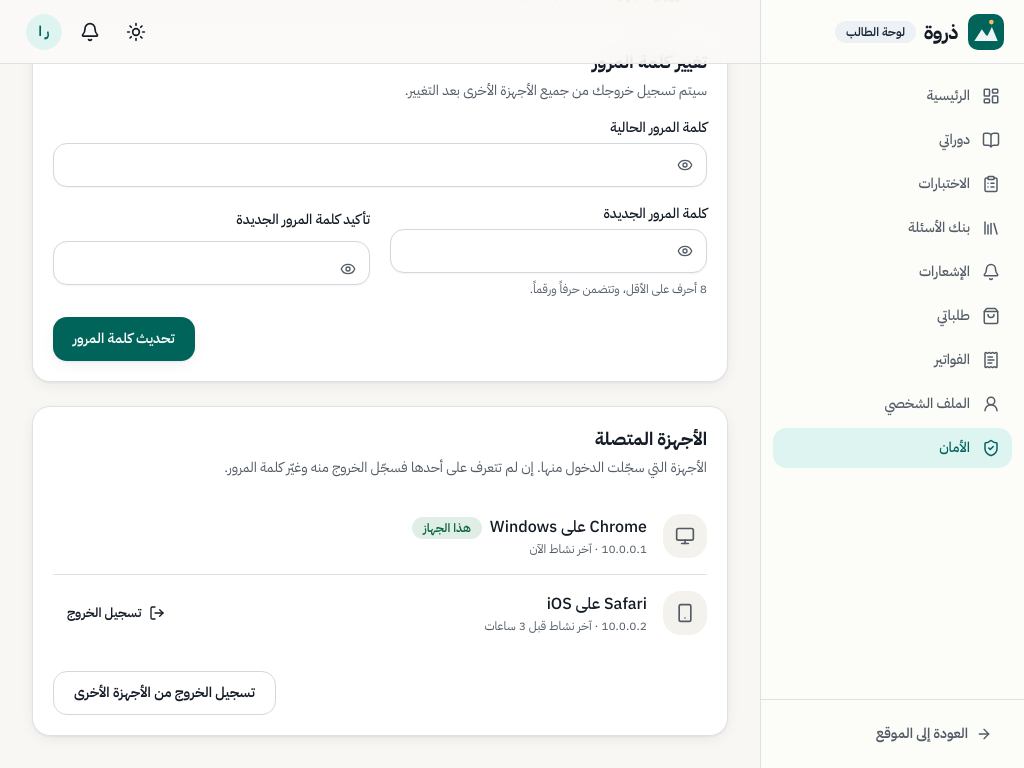
security page › confirms the password before signing out other devices
(page scrolled)
Click the button "تسجيل الخروج من الأجهزة الأخرى": click(164, 693) [53,671,276,715]
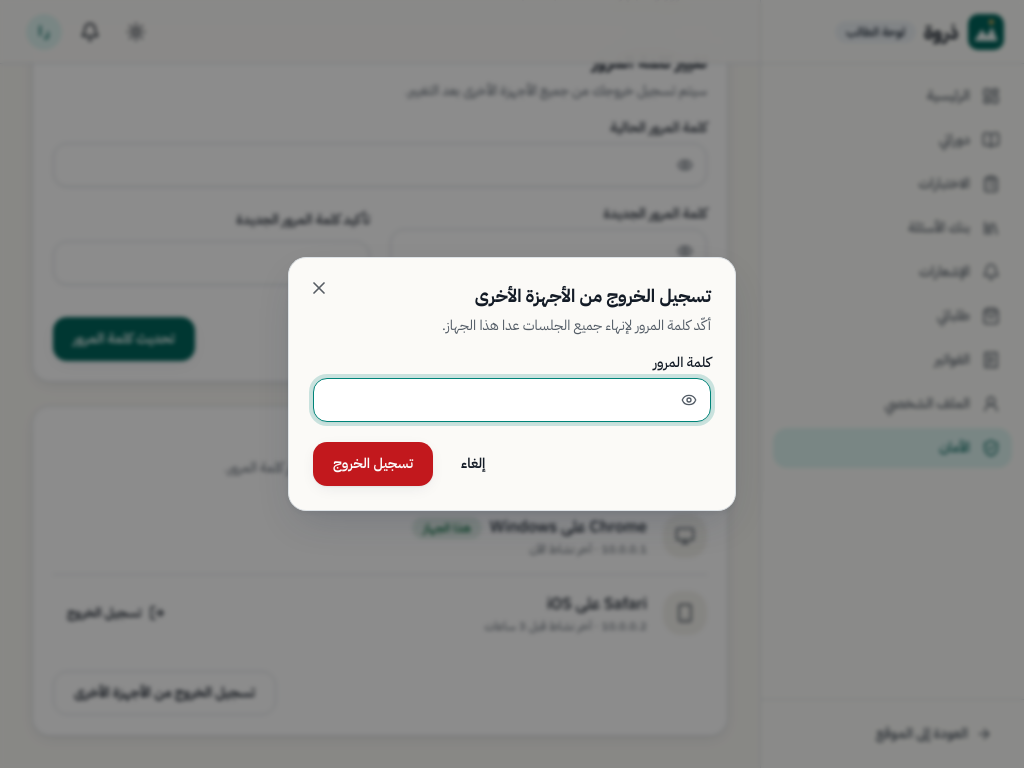
In the password field labelled "كلمة المرور": (512, 400) [313,378,711,422], type "Secret123"
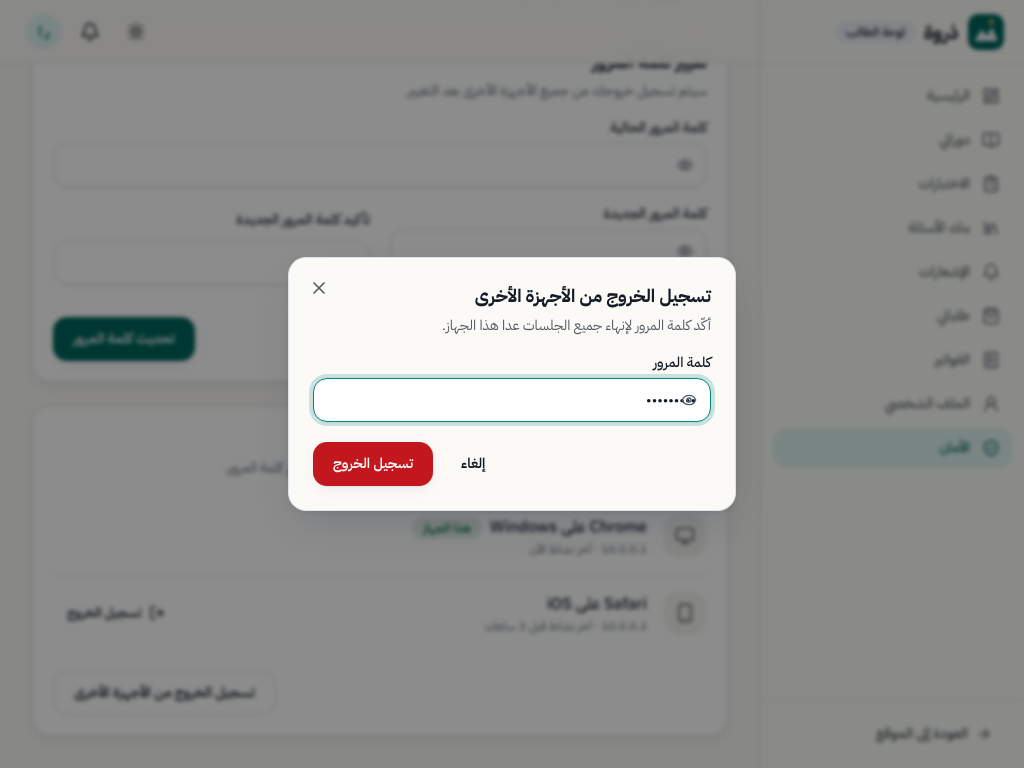
Click the button "تسجيل الخروج": click(373, 464) [313,442,433,486]
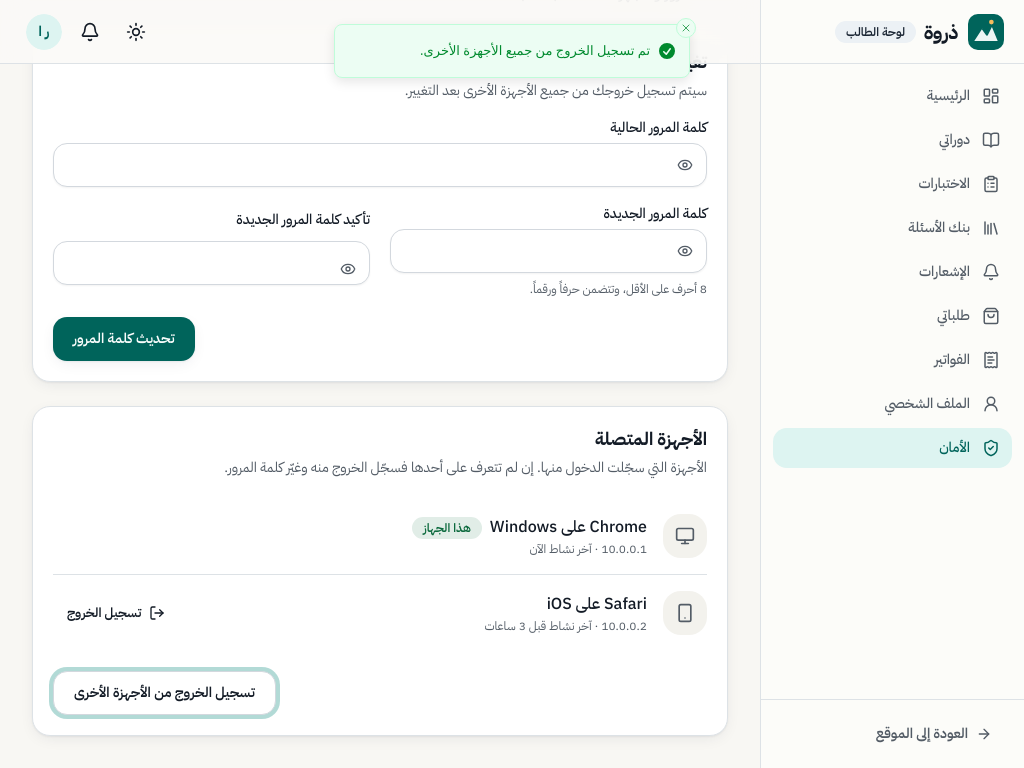
Expected: the dialog is gone
